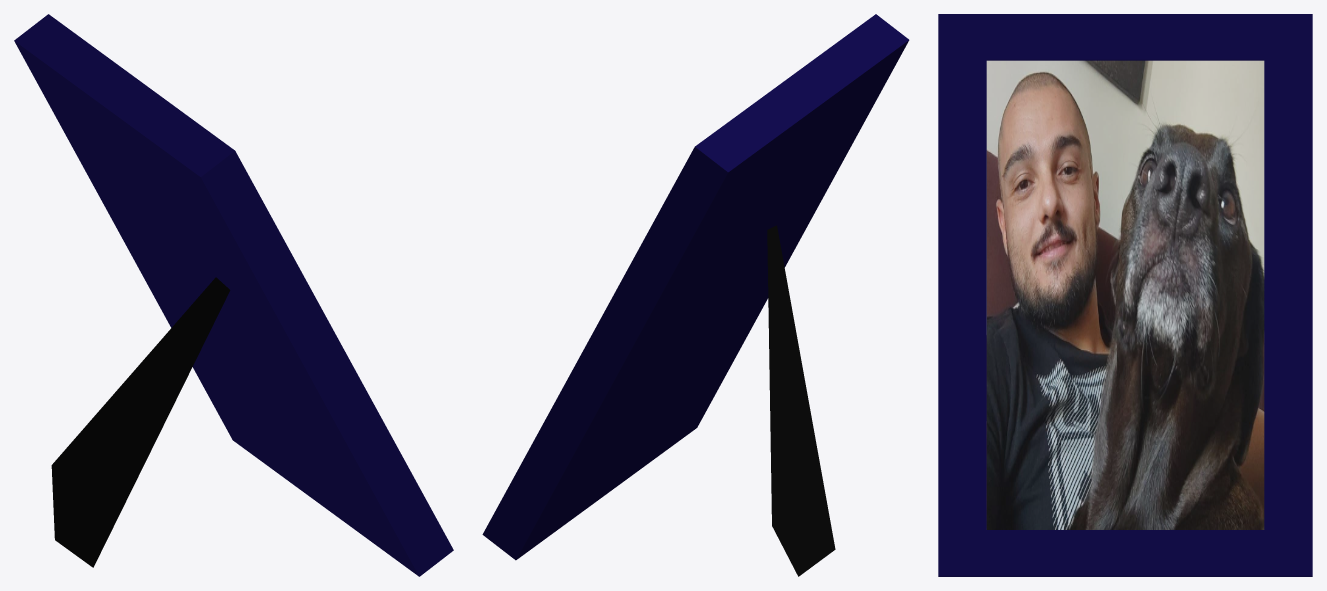
The model's file is small_frame_me_floki.glb.
3 views of the same model, side by side, from view 1: azimuth 30°, elevation 25°; view 2: azimuth 150°, elevation 25°; view 3: azimuth 270°, elevation 25° (orthographic). The views are drawn at different scales.
Visible parts, largest first — view 1: Cube, Plane; view 2: Cube, Plane; view 3: Cube.
Boxes of the visible parts, box(x1,y1,x2,y2) form: Cube: box(14, 14, 453, 576); Plane: box(51, 277, 230, 567); Cube: box(482, 14, 909, 560); Plane: box(767, 225, 835, 576); Cube: box(938, 14, 1312, 576).
Size of the model in its own units: 0.1663 by 0.2792 by 0.2.
3 materials, 1 textured.
